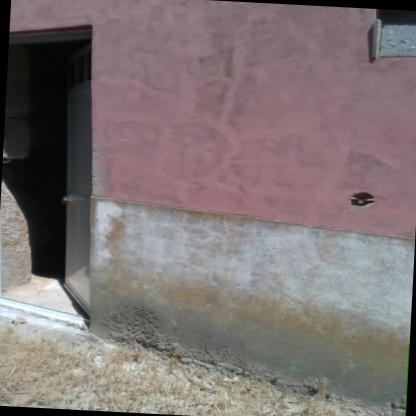semi: (0, 13, 109, 333)
